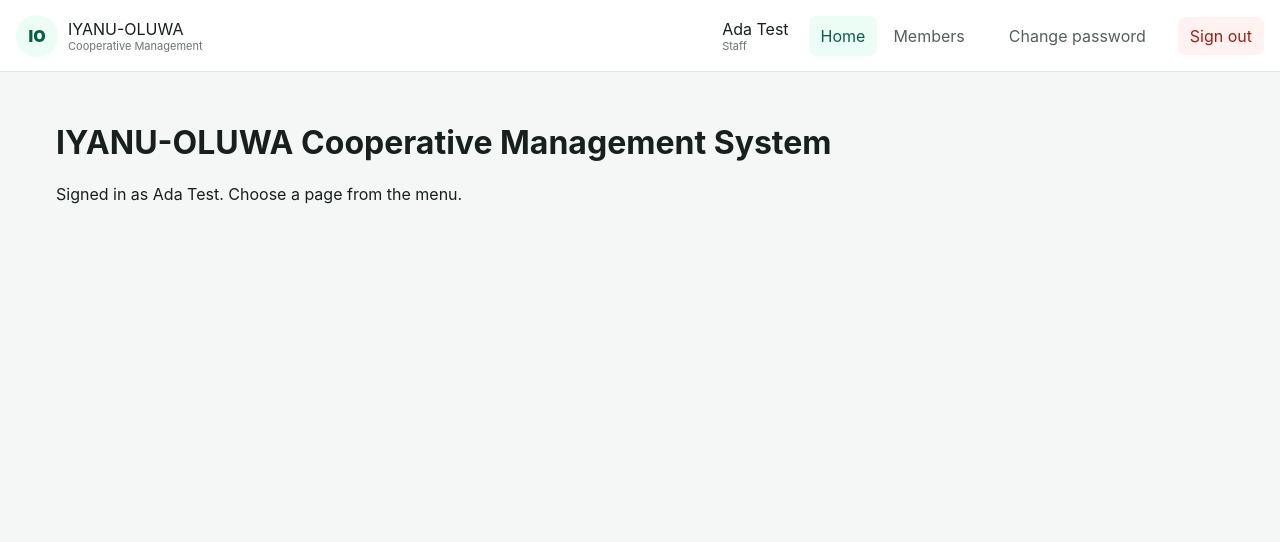
Scenario: members screen (jsdom) › lists Active members first and changes the filter
The image size is (1280, 542).
Click the button "Members": (929, 36) [881, 16, 977, 56]
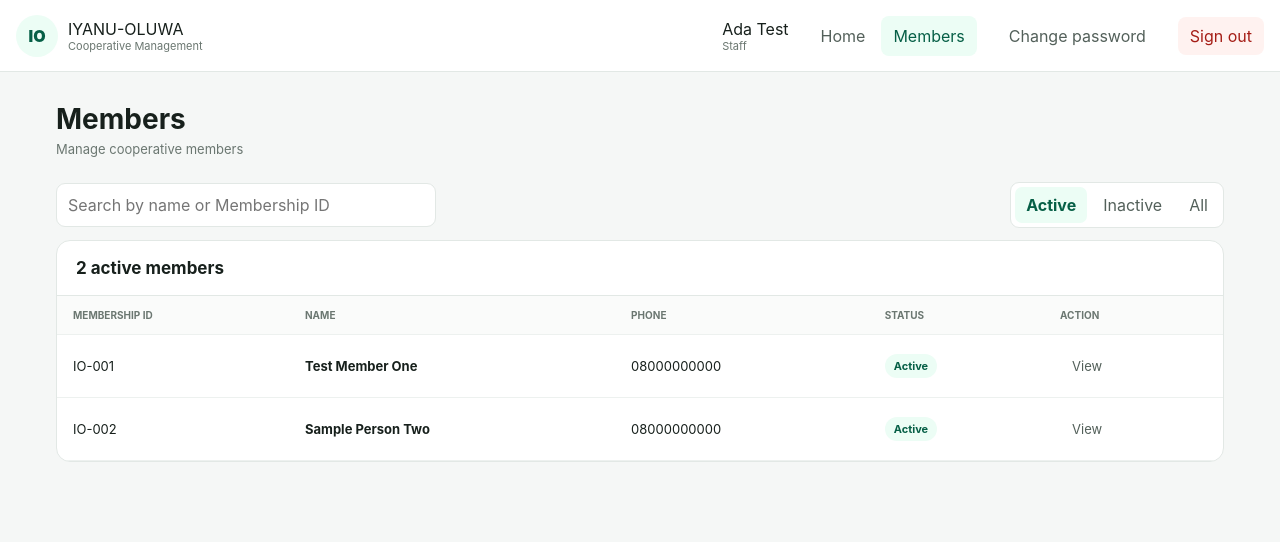
Now the heading "Members" is shown, box [56, 102, 186, 136]
Now the row "IO-001 Test Member One 08000000000 Active View" is shown, box [57, 334, 1223, 398]
Now the heading "2 active members" is shown, box [57, 241, 1223, 296]
Click the button "Inactive": (1133, 205) [1092, 187, 1173, 223]
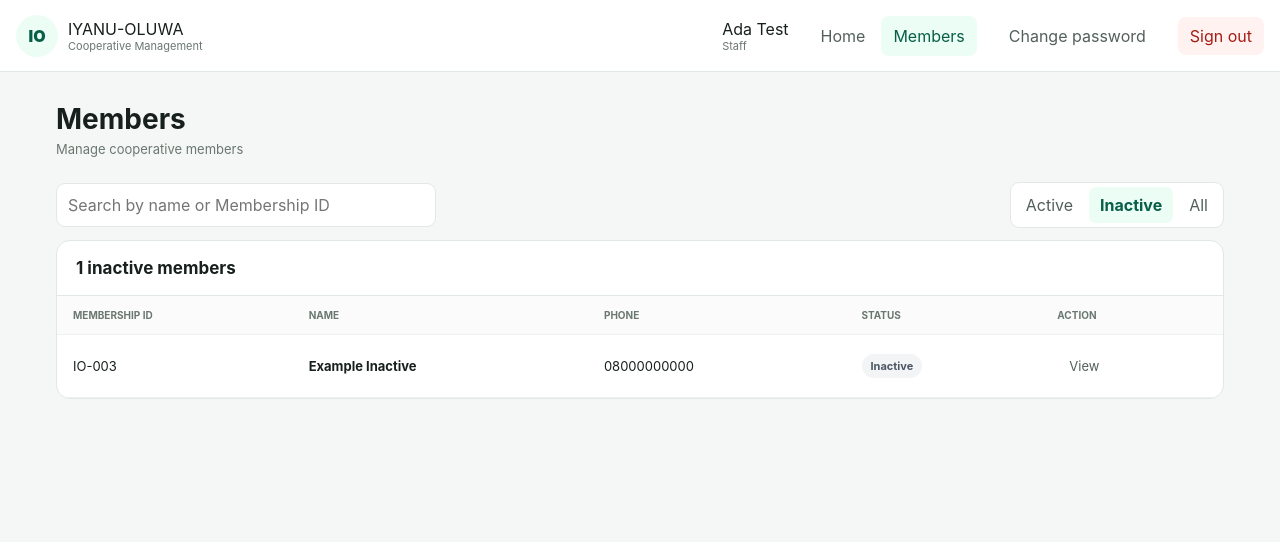
Now the row "IO-003 Example Inactive 08000000000 Inactive View" is shown, box [57, 334, 1223, 398]
Click the button "All": (1199, 205) [1178, 187, 1219, 223]
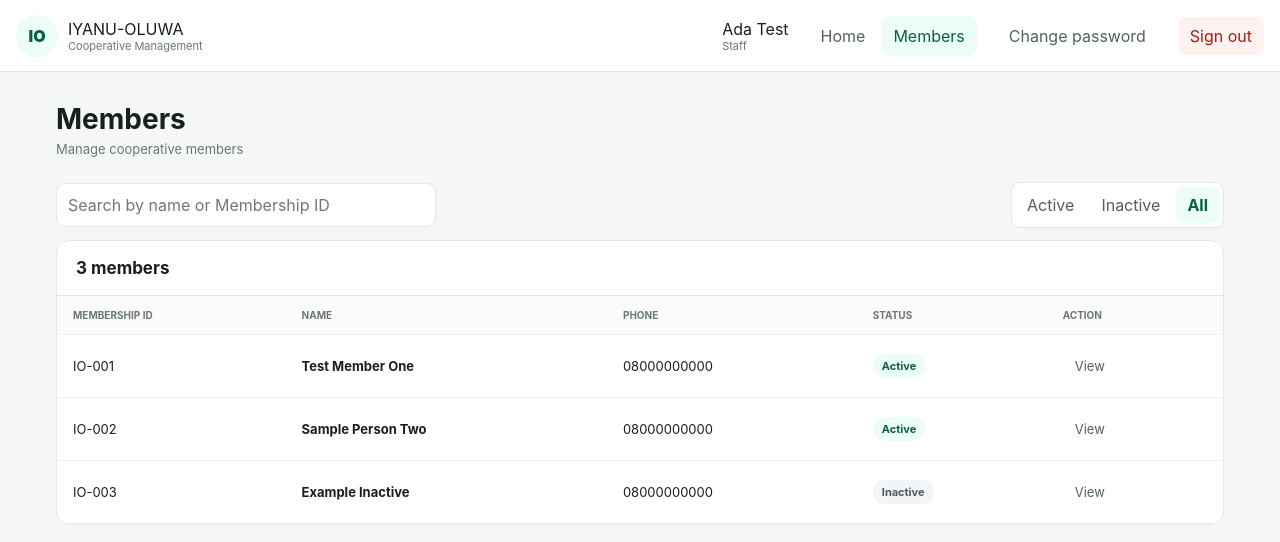
Now the heading "3 members" is shown, box [57, 241, 1223, 296]
